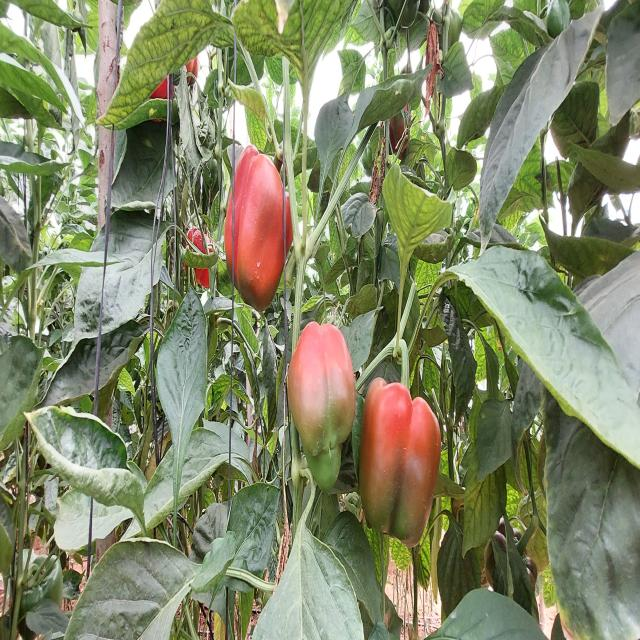BrownishRed--Can-be-Harvested: (356, 384, 438, 537), (230, 144, 294, 290), (291, 331, 349, 471)
